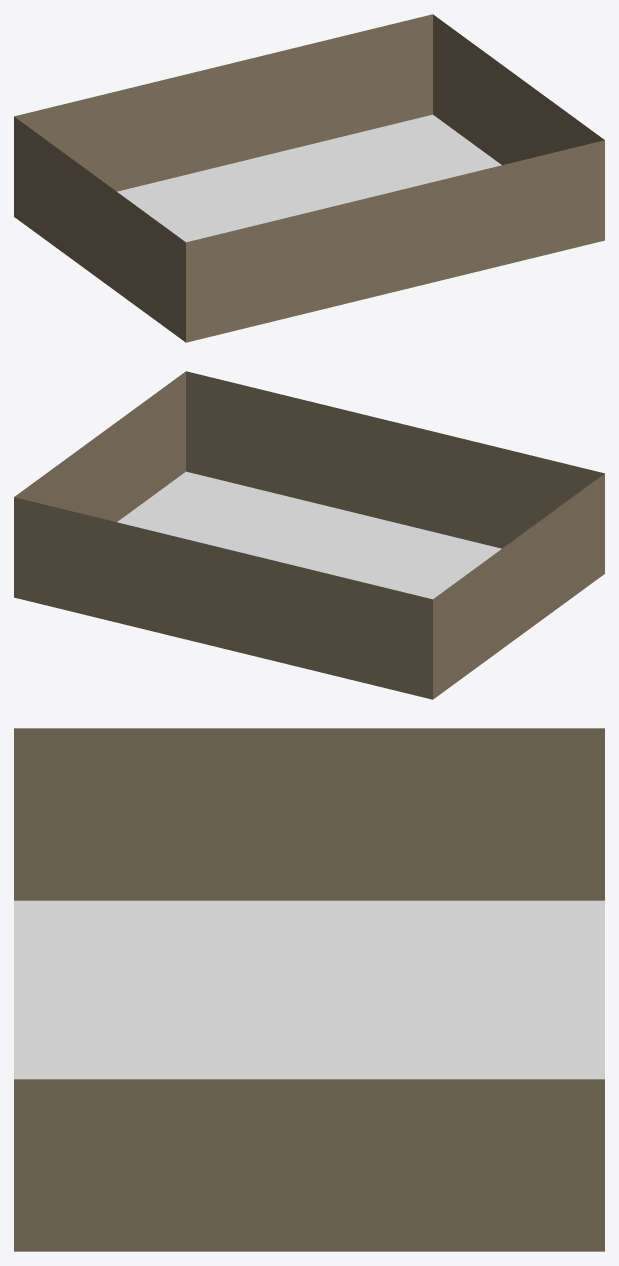
The model's file is room.fbx.
3 renders of one model, top to bottom at view 1: azimuth 30°, elevation 25°; view 2: azimuth 150°, elevation 25°; view 3: azimuth 270°, elevation 25°, orthographic. The views are drawn at different scales.
Visible parts, largest first — view 1: room; view 2: room; view 3: room.
Part boxes in pixels (box(x1,y1,x2,y2)): room: box(14, 14, 604, 342); room: box(14, 371, 604, 699); room: box(14, 728, 604, 1251).
Size of the model in its own units: 2432 by 557 by 1730.
